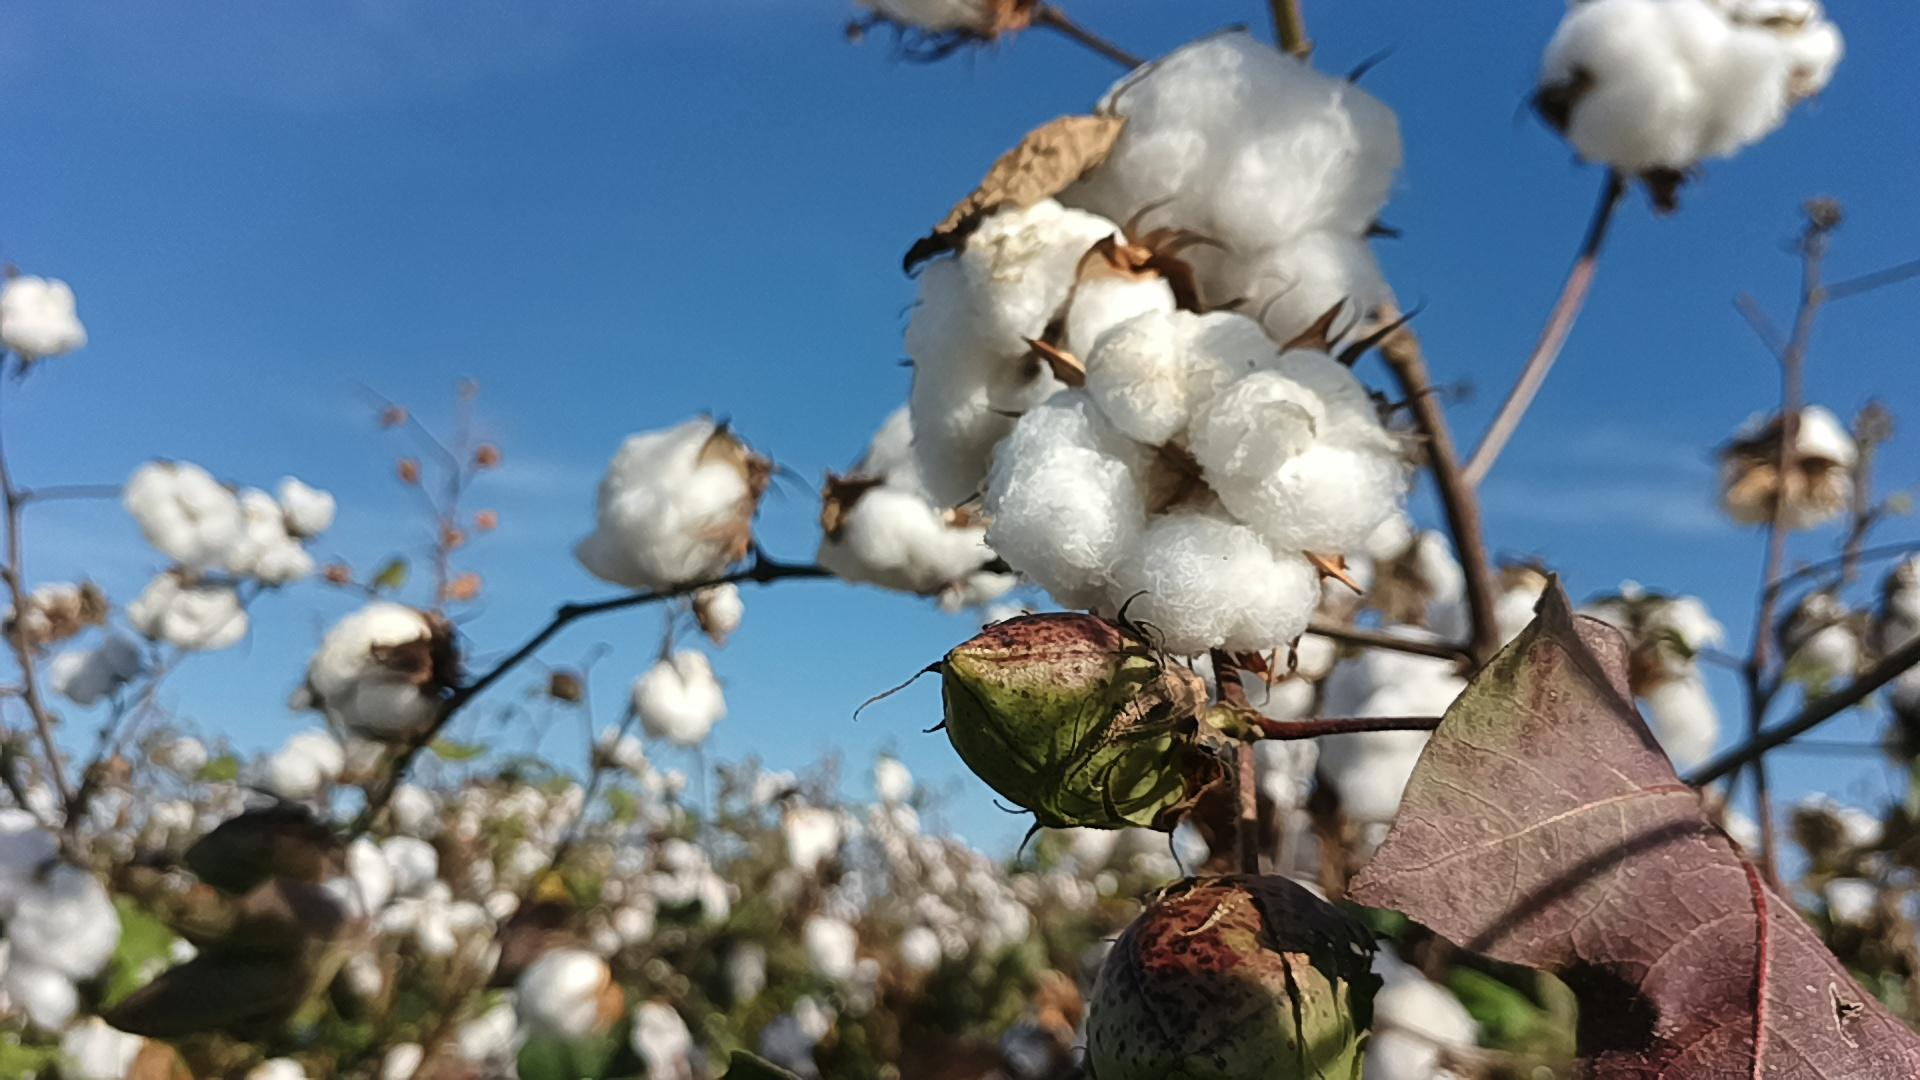cotton_ready: (986, 309, 1414, 655), (1069, 33, 1393, 356), (907, 206, 1178, 509), (1545, 0, 1842, 164), (818, 405, 1019, 605), (570, 418, 756, 587), (1316, 625, 1458, 824), (1584, 580, 1721, 767), (0, 825, 117, 1031), (291, 605, 438, 742), (1370, 945, 1486, 1080), (1726, 406, 1866, 517), (123, 465, 241, 567), (0, 281, 91, 356)
